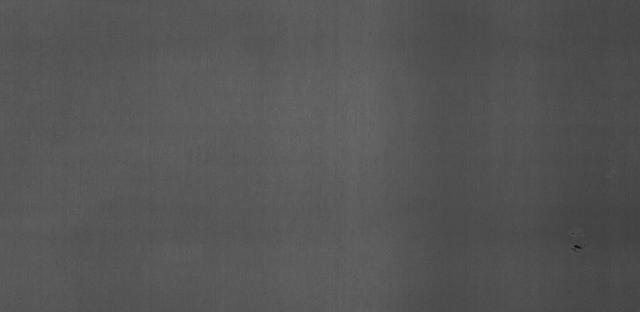inclusion: (568, 240, 589, 257)
